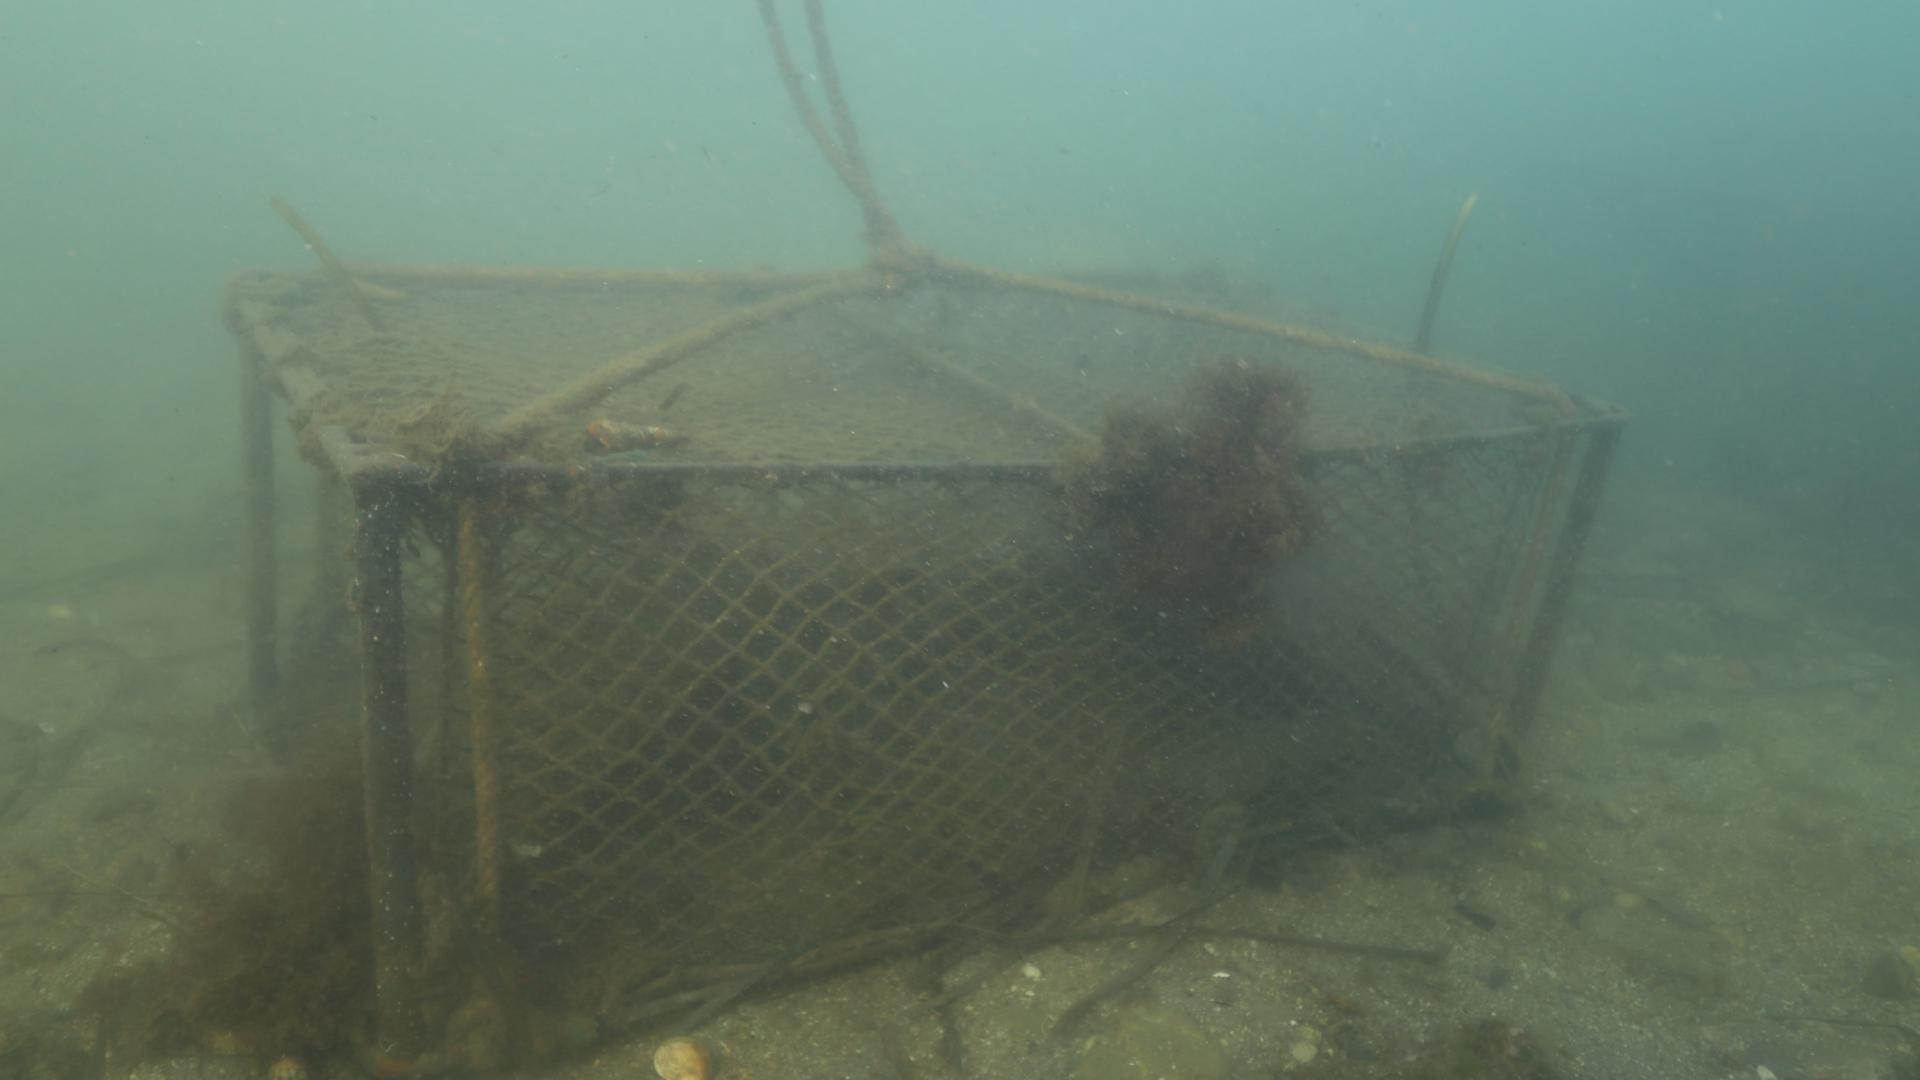bundle of ropes: (757, 0, 928, 274)
rectangular fish trap: (215, 262, 1636, 1080)
